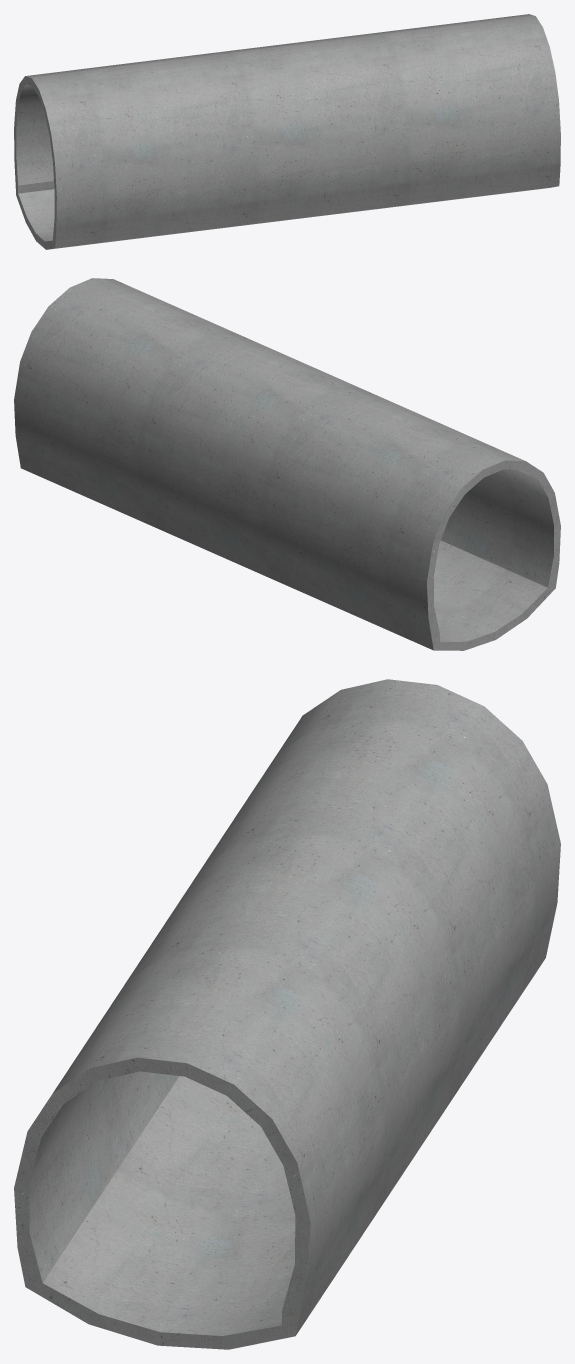
3 views of the same model, one above another, from view 1: azimuth 30°, elevation 25°; view 2: azimuth 150°, elevation 25°; view 3: azimuth 270°, elevation 25° (orthographic). The views are drawn at different scales.
Parts seen in each view (by area): view 1: Node; view 2: Node; view 3: Node.
Boxes of the visible parts, x1,y1,x2,y2 form: Node: [14, 14, 560, 249]; Node: [14, 278, 560, 650]; Node: [14, 679, 560, 1349].
Bounding box in the file's own units: 2.62 × 0.8572 × 1.43.
Materials: 1 (1 with a texture image).
